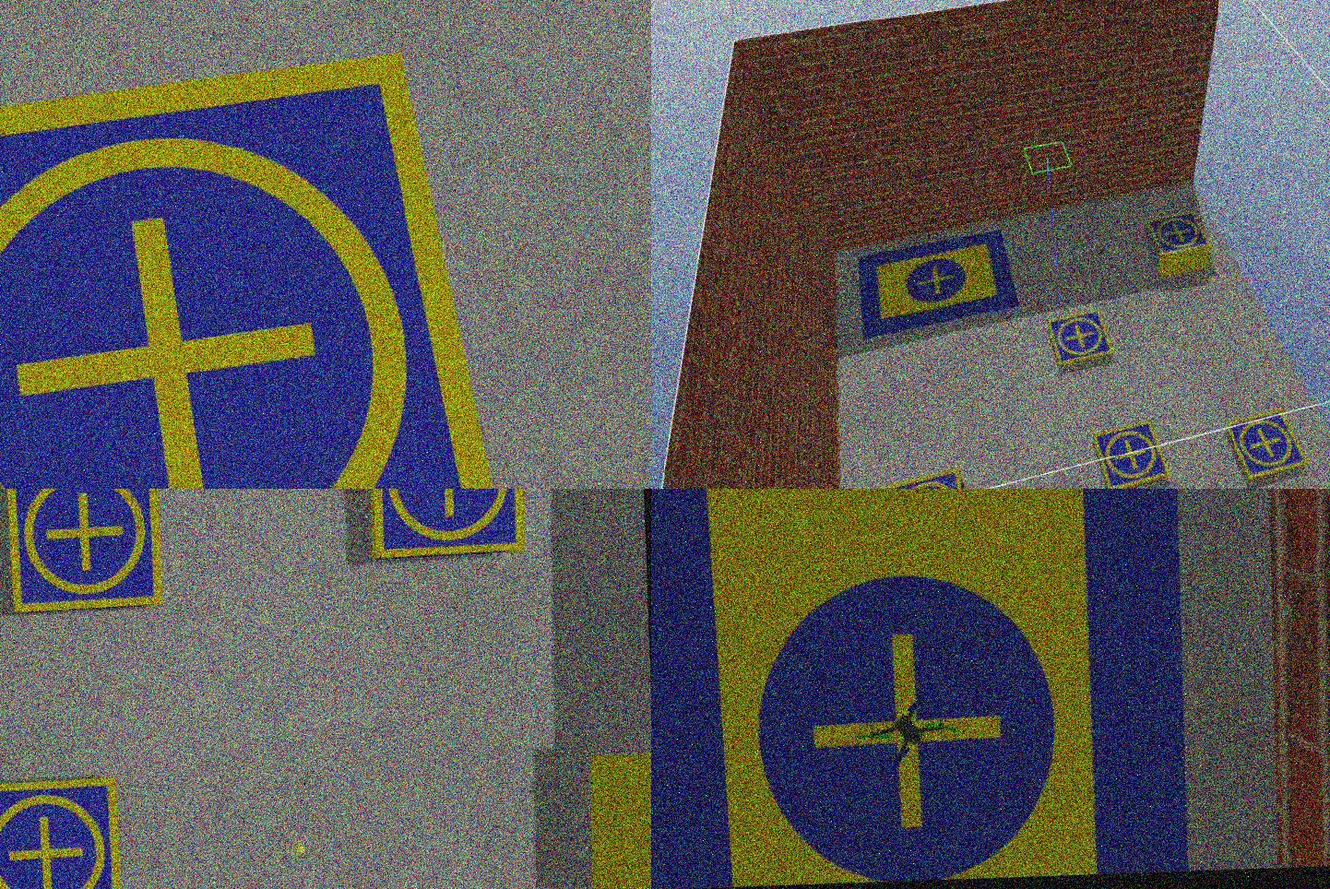large_base: (652, 490, 1188, 889), (861, 231, 1023, 339)
small_base: (1, 49, 523, 490), (5, 490, 166, 616), (1, 776, 126, 889), (366, 490, 530, 560), (1228, 409, 1311, 484), (1094, 421, 1172, 490), (1047, 310, 1115, 369), (1146, 212, 1214, 258), (888, 468, 973, 490)
